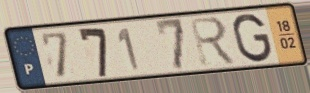1: (116, 26, 141, 72)
7: (153, 16, 186, 73), (76, 26, 109, 79), (40, 30, 71, 80)
G: (231, 12, 274, 65)
R: (187, 15, 240, 68)
